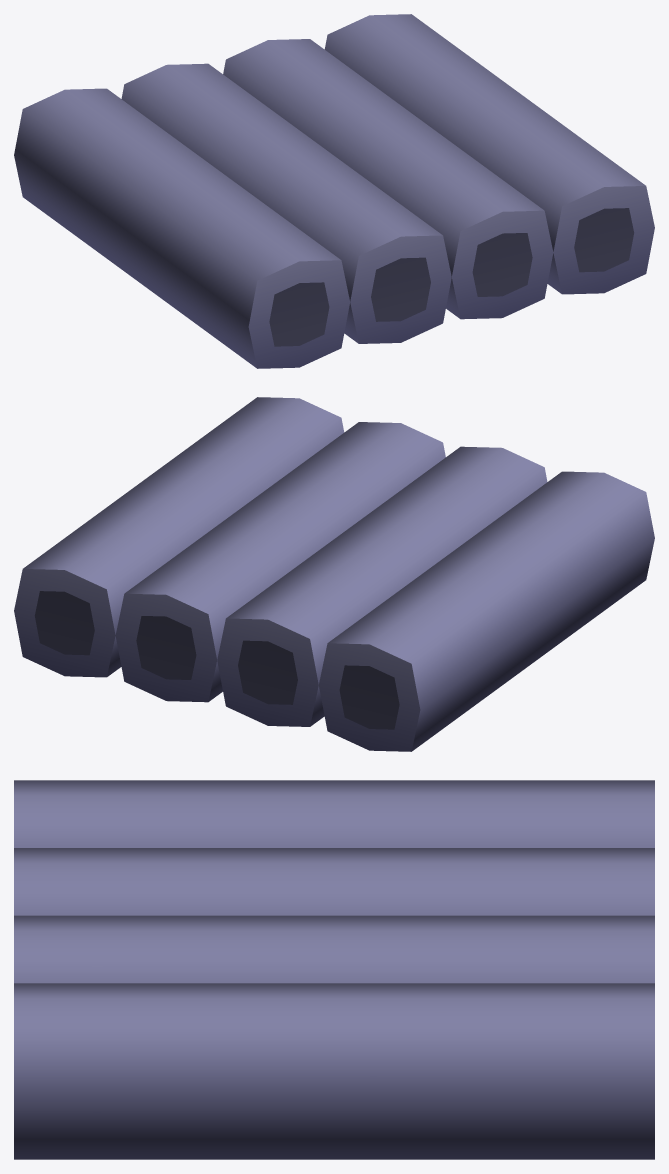
Rendered from kenney-factory-conveyor-bars.glb.
The picture shows the model from 3 angles, top to bottom: view 1: azimuth 30°, elevation 25°; view 2: azimuth 150°, elevation 25°; view 3: azimuth 270°, elevation 25°; orthographic projection. The views are drawn at different scales.
Parts seen in each view (by area): view 1: conveyor-bars; view 2: conveyor-bars; view 3: conveyor-bars.
Part boxes in pixels (bbox=[...]): conveyor-bars: bbox=[14, 14, 654, 368]; conveyor-bars: bbox=[14, 397, 654, 751]; conveyor-bars: bbox=[14, 780, 654, 1159].
Bounding box in the file's own units: 1.5 × 0.375 × 1.5.
1 material, 1 textured.
